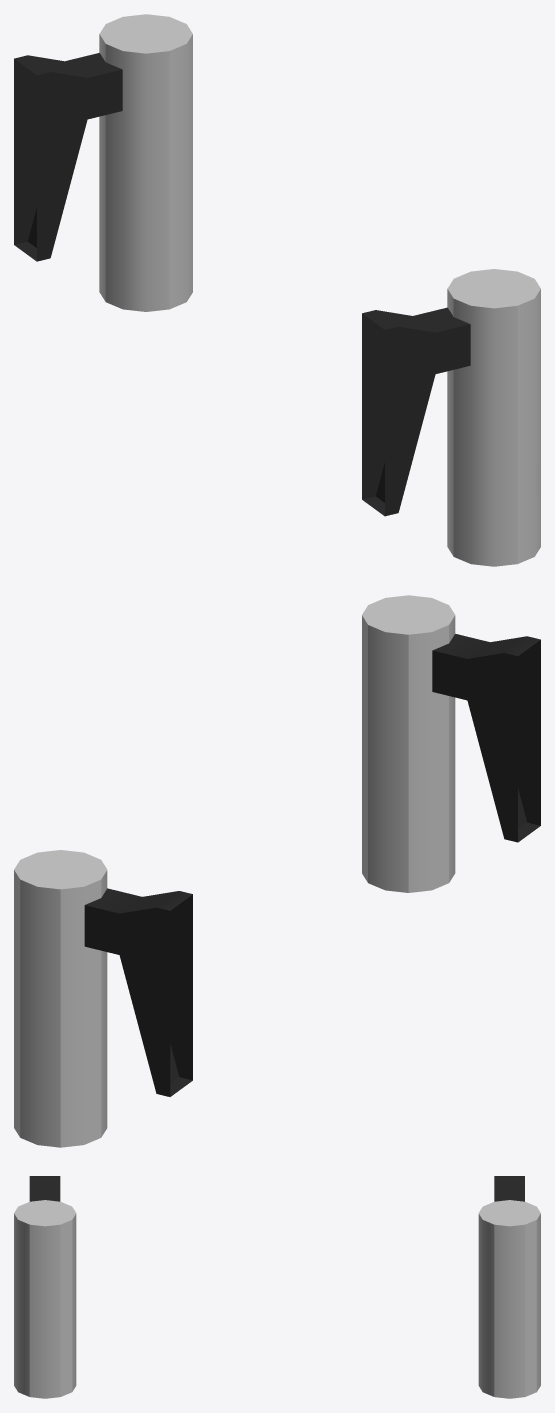
File: Luces4.obj
3 renders of one model, top to bottom at view 1: azimuth 30°, elevation 25°; view 2: azimuth 150°, elevation 25°; view 3: azimuth 270°, elevation 25°, orthographic. The views are drawn at different scales.
Visible parts, largest first — view 1: Luces4; view 2: Luces4; view 3: Luces4.
Boxes of the visible parts, x1,y1,x2,y2 form: Luces4: (14, 14, 540, 566); Luces4: (14, 595, 540, 1147); Luces4: (14, 1176, 540, 1398).
Size of the model in its own units: 0.2285 by 0.3496 by 0.9682.
Materials: 1 (1 with a texture image).
